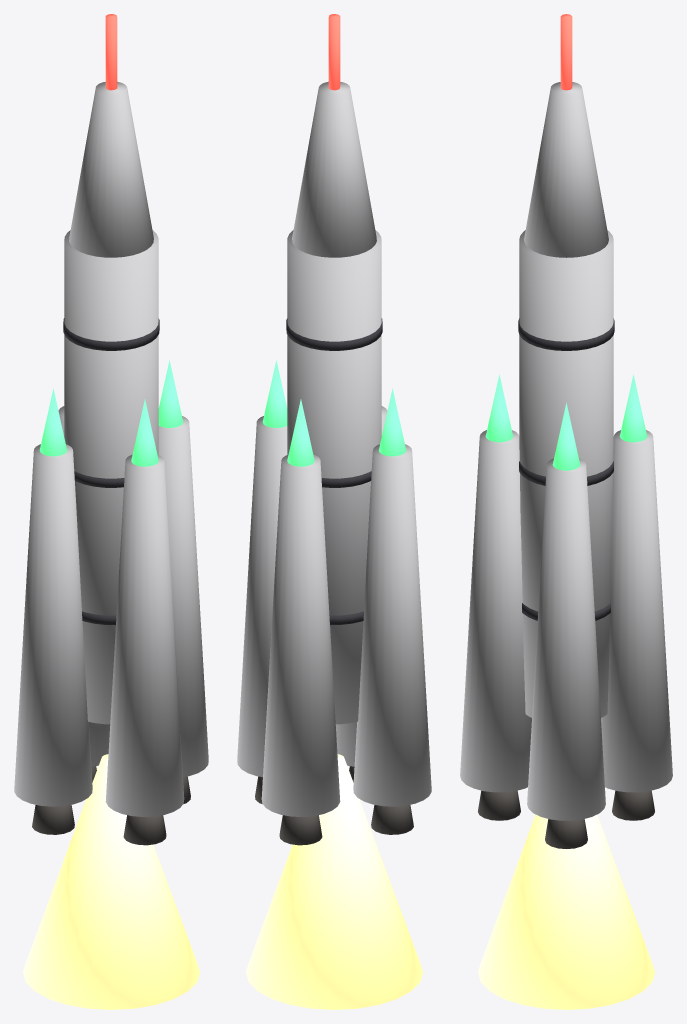
Rendered from soyuz.glb.
The picture shows the model from 3 angles, left to right: view 1: azimuth 30°, elevation 25°; view 2: azimuth 150°, elevation 25°; view 3: azimuth 270°, elevation 25°; orthographic projection.
Visible parts, largest first — view 1: soyuz_core, soyuz_flame, soyuz_b3, soyuz_b2, soyuz_shroud, soyuz_b0, soyuz_bnz2, soyuz_bnz3, soyuz_bn2, soyuz_bn3, soyuz_bn0, soyuz_r2 (+3 smaller); view 2: soyuz_core, soyuz_flame, soyuz_b1, soyuz_b2, soyuz_shroud, soyuz_b0, soyuz_bnz1, soyuz_bnz2, soyuz_bn2, soyuz_bn1, soyuz_bn0, soyuz_r2 (+3 smaller); view 3: soyuz_core, soyuz_flame, soyuz_b0, soyuz_b1, soyuz_b3, soyuz_shroud, soyuz_bnz1, soyuz_bnz3, soyuz_bnz0, soyuz_bn0, soyuz_bn1, soyuz_bn3 (+3 smaller).
Part boxes in pixels (bbox=[...]): soyuz_core: bbox=[64, 230, 158, 724]; soyuz_flame: bbox=[23, 754, 199, 1009]; soyuz_b3: bbox=[105, 454, 184, 816]; soyuz_b2: bbox=[14, 444, 92, 806]; soyuz_shroud: bbox=[69, 81, 153, 257]; soyuz_b0: bbox=[158, 416, 208, 776]; soyuz_bnz2: bbox=[32, 805, 74, 834]; soyuz_bnz3: bbox=[123, 815, 166, 845]; soyuz_bn2: bbox=[39, 388, 66, 456]; soyuz_bn3: bbox=[131, 399, 158, 466]; soyuz_bn0: bbox=[158, 360, 183, 427]; soyuz_r2: bbox=[63, 318, 159, 350]; soyuz_core: bbox=[287, 230, 381, 724]; soyuz_flame: bbox=[246, 754, 422, 1009]; soyuz_b1: bbox=[261, 454, 340, 816]; soyuz_b2: bbox=[353, 444, 431, 806]; soyuz_shroud: bbox=[292, 81, 376, 257]; soyuz_b0: bbox=[237, 416, 287, 777]; soyuz_bnz1: bbox=[279, 815, 322, 845]; soyuz_bnz2: bbox=[371, 805, 413, 834]; soyuz_bn2: bbox=[379, 388, 406, 456]; soyuz_bn1: bbox=[287, 399, 314, 466]; soyuz_bn0: bbox=[262, 360, 287, 427]; soyuz_r2: bbox=[286, 318, 382, 350]; soyuz_core: bbox=[519, 230, 613, 717]; soyuz_flame: bbox=[478, 814, 654, 1009]; soyuz_b0: bbox=[527, 458, 605, 820]; soyuz_b1: bbox=[601, 430, 672, 792]; soyuz_b3: bbox=[460, 430, 531, 792]; soyuz_shroud: bbox=[524, 82, 608, 257]; soyuz_bnz1: bbox=[612, 790, 654, 820]; soyuz_bnz3: bbox=[478, 790, 520, 820]; soyuz_bnz0: bbox=[545, 819, 587, 848]; soyuz_bn0: bbox=[552, 402, 580, 470]; soyuz_bn1: bbox=[619, 374, 647, 442]; soyuz_bn3: bbox=[485, 374, 513, 442].
Bounding box in the file's own units: 1.08 × 5.35 × 1.08.
